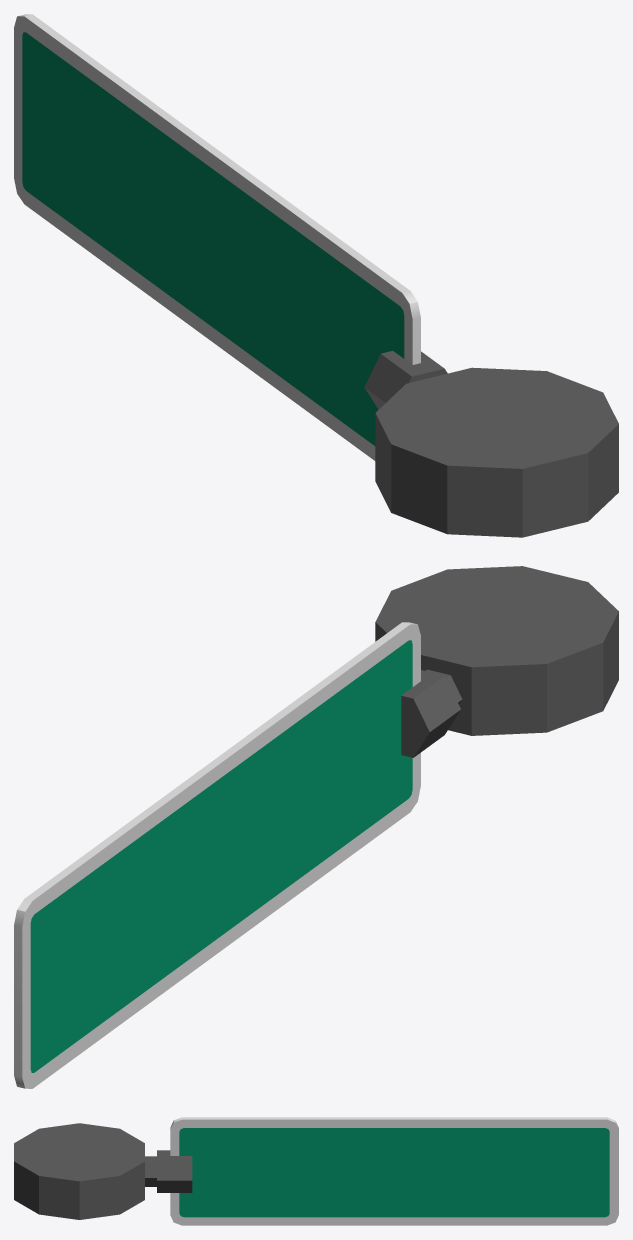
The model's file is StreetNameSign.fbx.
3 renders of one model, top to bottom at view 1: azimuth 30°, elevation 25°; view 2: azimuth 150°, elevation 25°; view 3: azimuth 270°, elevation 25°, orthographic. The views are drawn at different scales.
Visible parts, largest first — view 1: StreetSign; view 2: StreetSign; view 3: StreetSign.
Part boxes in pixels (x1=…): StreetSign: x1=14, y1=14, x2=618, y2=537; StreetSign: x1=14, y1=566, x2=618, y2=1088; StreetSign: x1=14, y1=1117, x2=618, y2=1225.
Size of the model in its own units: 34.4 by 29.16 by 151.
